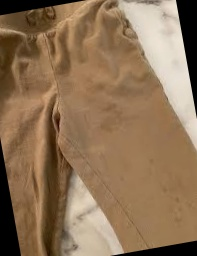oil: (84, 96, 124, 143), (141, 154, 159, 169)
